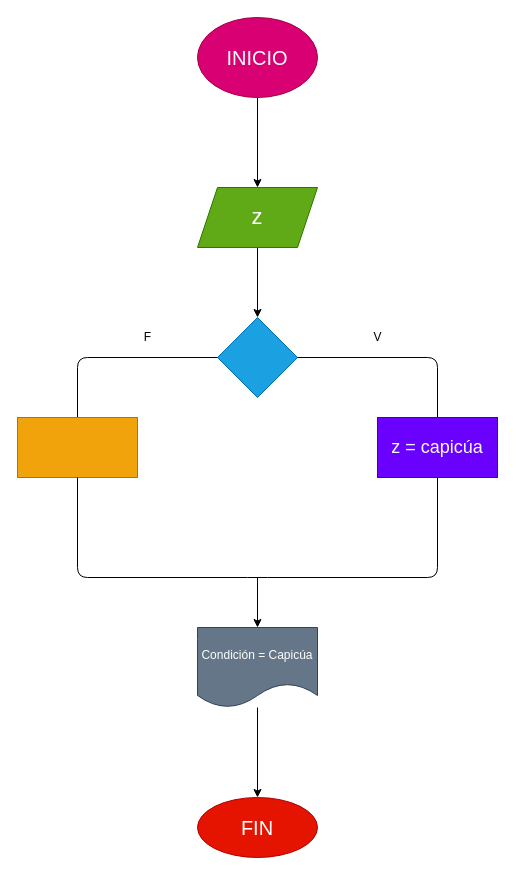
Some shapes in this 515 by 875 pixel diagram are drawn without their labels. The shapes that lost their labels are listed below. From the top down, each one's box as (x1, y1, x2, y2) in pixels, then its label:
(216, 316, 298, 398): Ej: 13531
(16, 416, 138, 478): z = común
